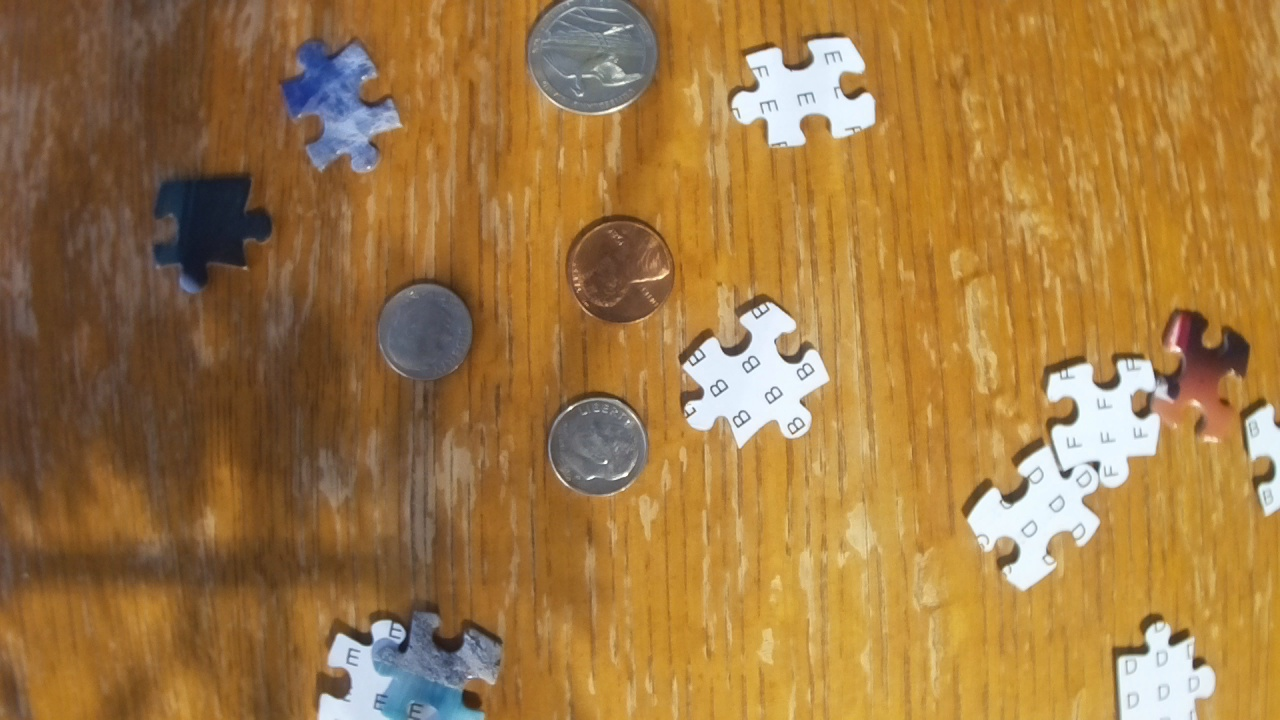dime: (547, 392, 651, 498), (375, 282, 477, 382)
penny: (567, 216, 675, 326)
quarter: (523, 1, 661, 120)
